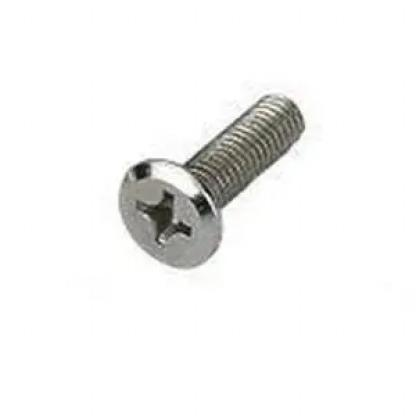FOD: (107, 76, 324, 273)
